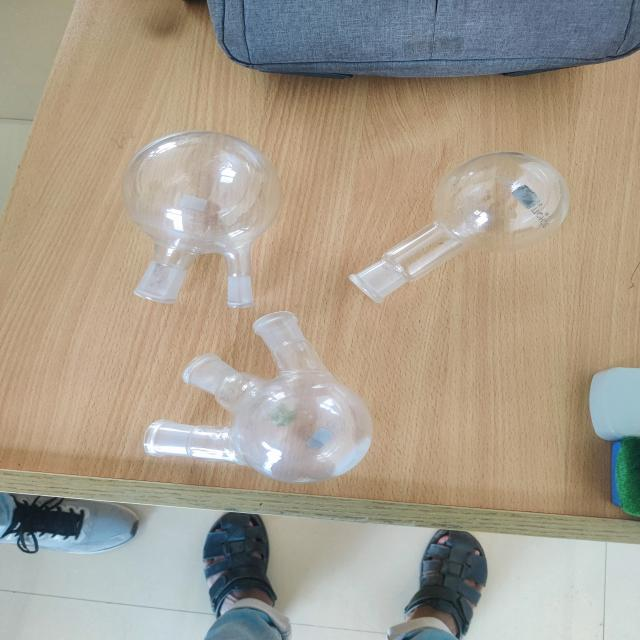Round_Bottom_Flask_Borosilicate_Glass_1_Neck: (348, 116, 586, 322)
Round_Bottom_Flask_Borosilicate_Glass_2_Neck: (96, 101, 320, 329)
Round_Bottom_Flask_Borosilicate_Glass_3_Neck: (88, 293, 408, 508)
